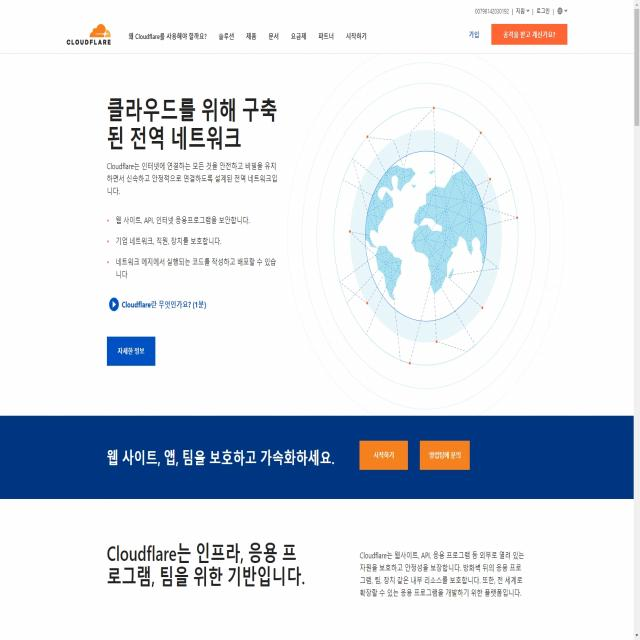menu-bar: (127, 25, 372, 48)
